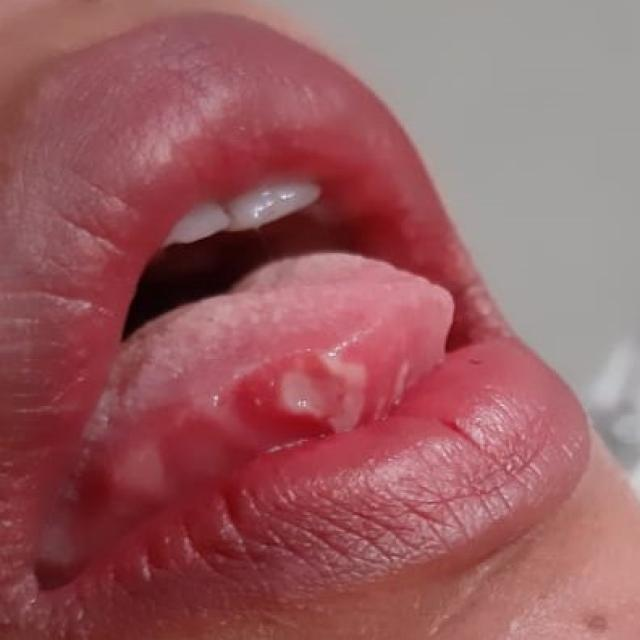Cancer: (203, 311, 446, 438)
